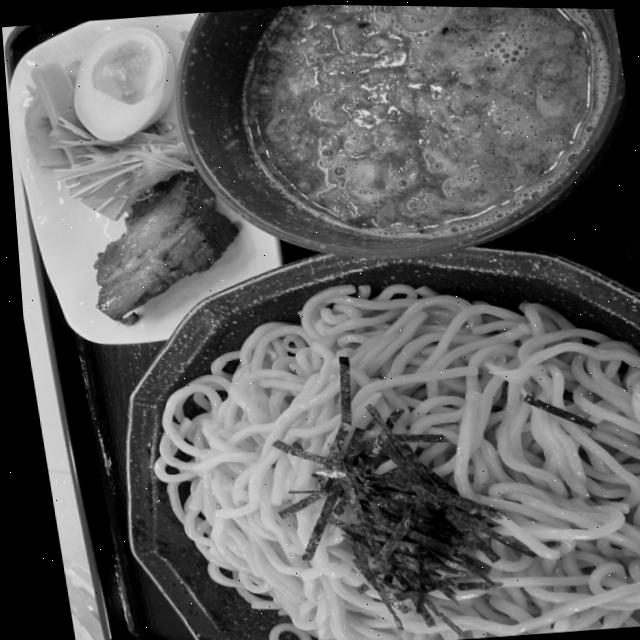面条主食: (24, 0, 640, 640)
